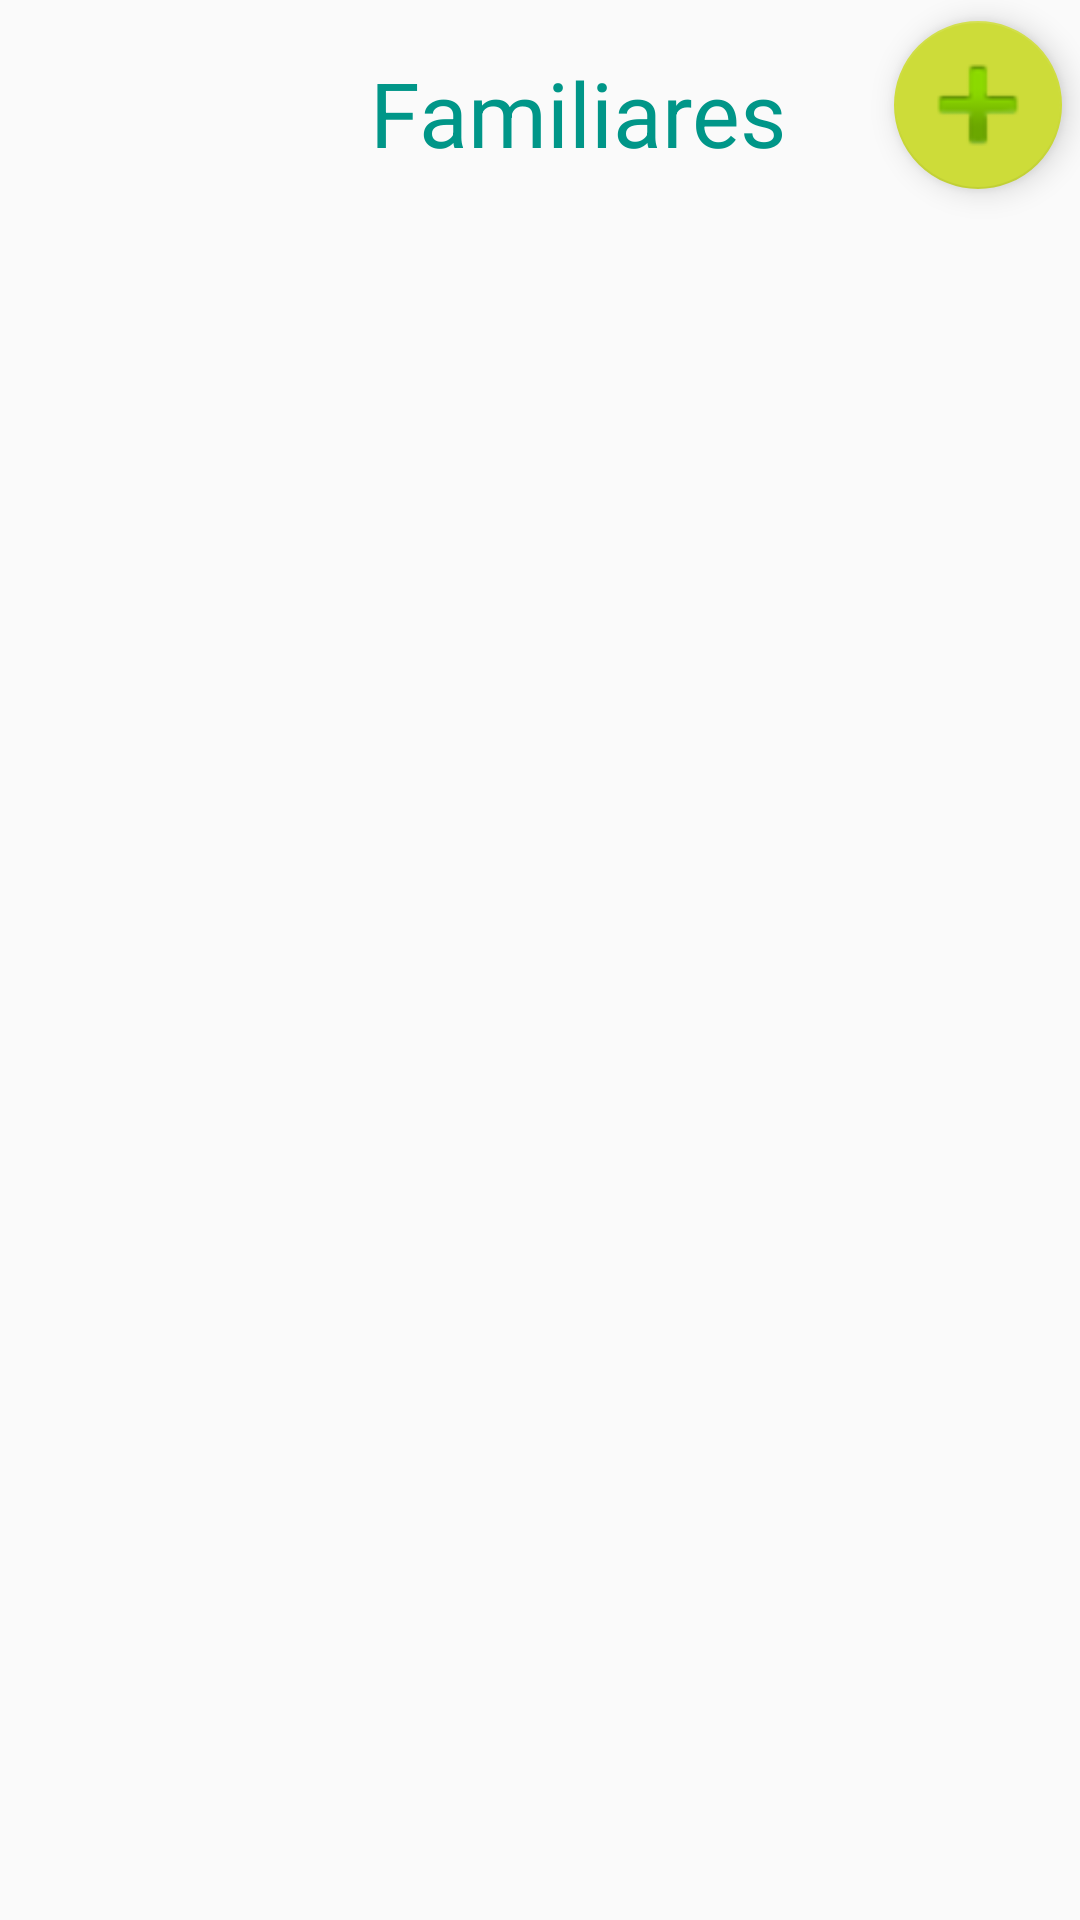

Named icons in this screenshot (1080px x 1920px) and their centers, [x,y]:
add: [978,105]
